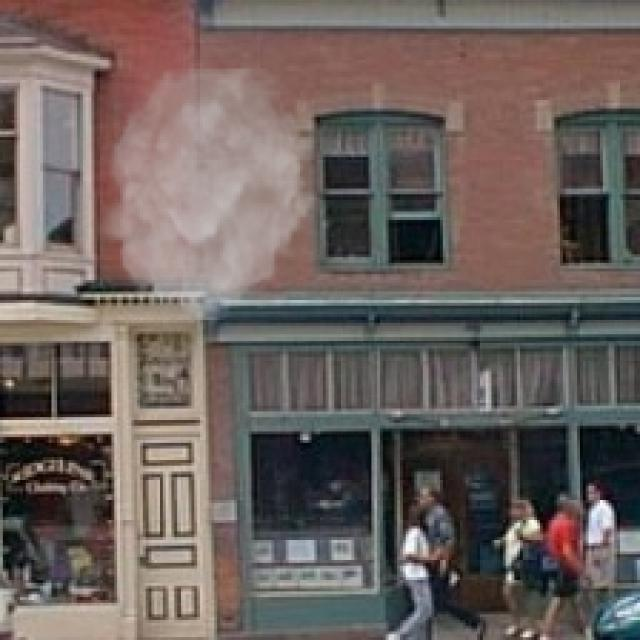Smoke: (94, 68, 323, 320)
